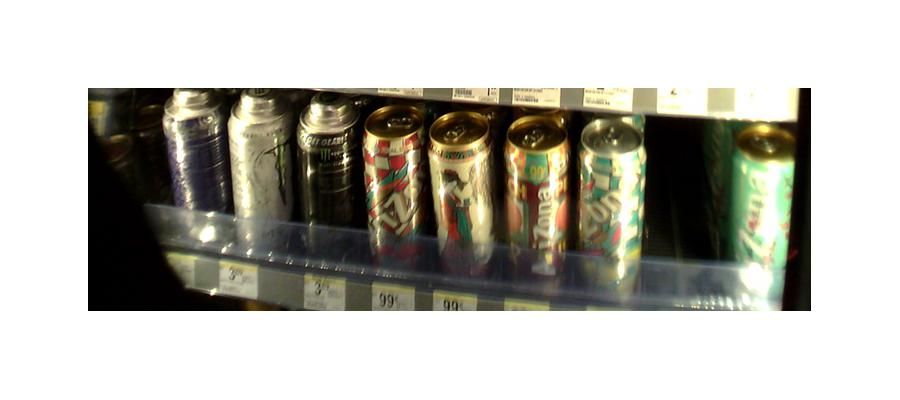bottle: (577, 118, 644, 293), (730, 122, 794, 305), (164, 89, 232, 249), (502, 119, 569, 281), (432, 118, 495, 281), (231, 89, 292, 255), (365, 111, 425, 274), (296, 97, 359, 241)
